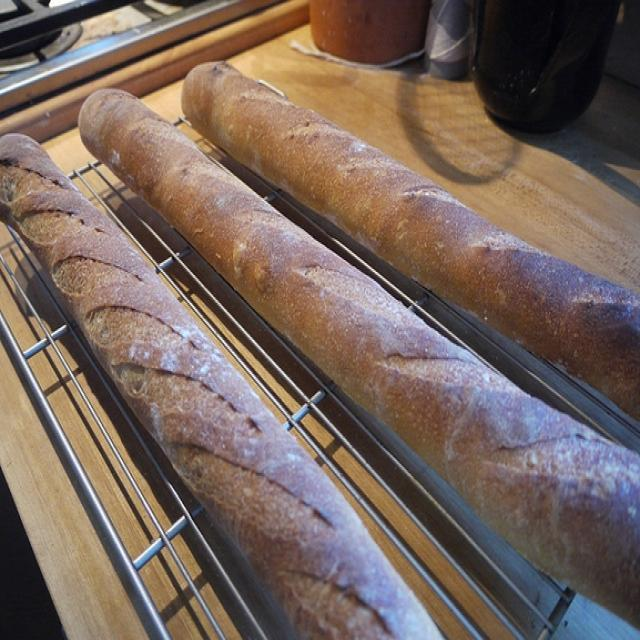Bread: (2, 62, 640, 640)
